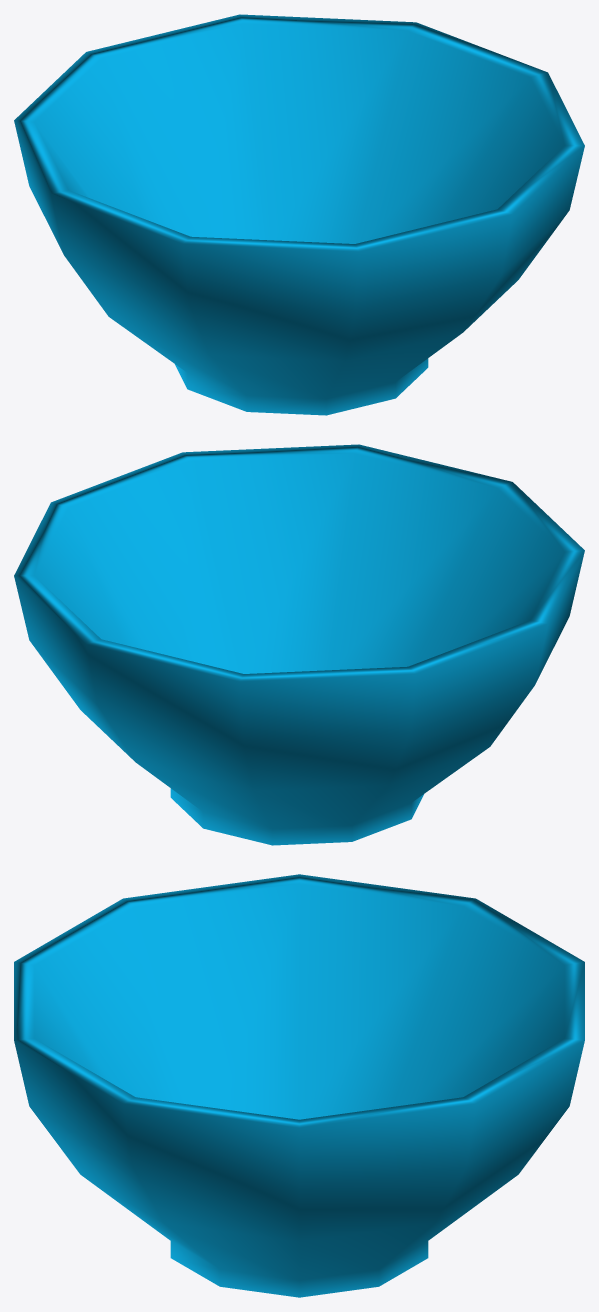
The model's file is Bowl_Lod1.fbx.
3 renders of one model, top to bottom at view 1: azimuth 30°, elevation 25°; view 2: azimuth 150°, elevation 25°; view 3: azimuth 270°, elevation 25°, orthographic. The views are drawn at different scales.
Visible parts, largest first — view 1: Bowl_Lod1; view 2: Bowl_Lod1; view 3: Bowl_Lod1.
Part boxes in pixels (x1=…): Bowl_Lod1: x1=14, y1=14, x2=584, y2=415; Bowl_Lod1: x1=14, y1=444, x2=584, y2=845; Bowl_Lod1: x1=14, y1=874, x2=584, y2=1297.
Bounding box in the file's own units: 18.4 × 8.16 × 17.5.
